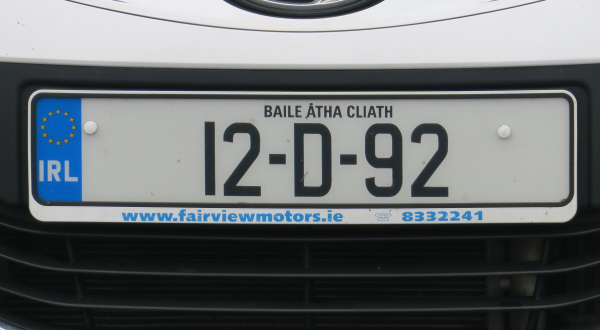license_plate: (25, 88, 579, 221)
